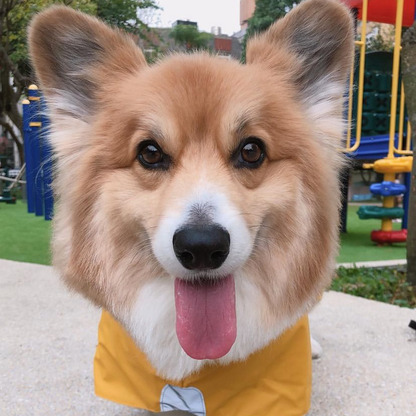Corgi: (20, 16, 380, 407)
